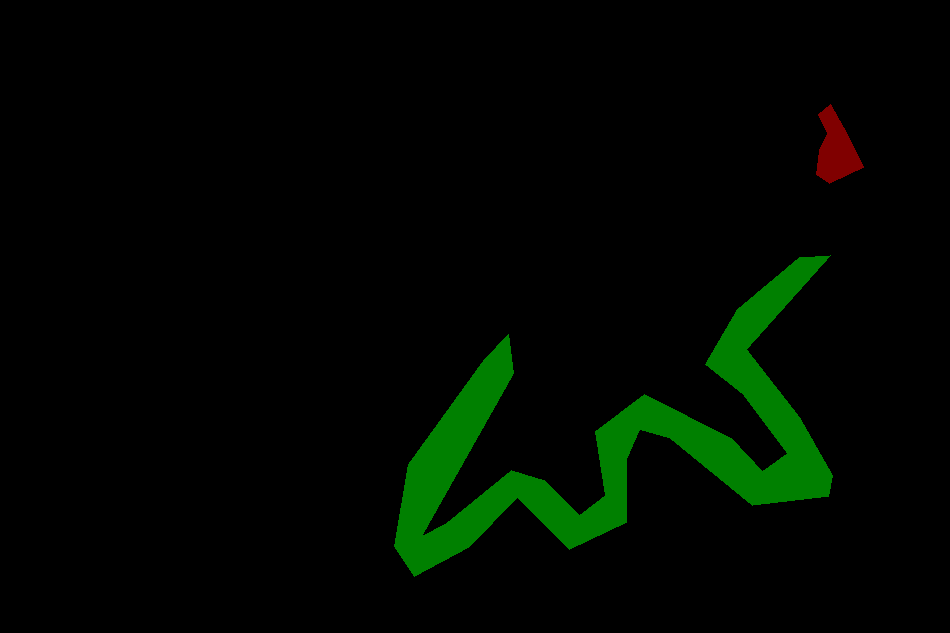fire: (394, 255, 832, 576), (816, 104, 863, 183)
